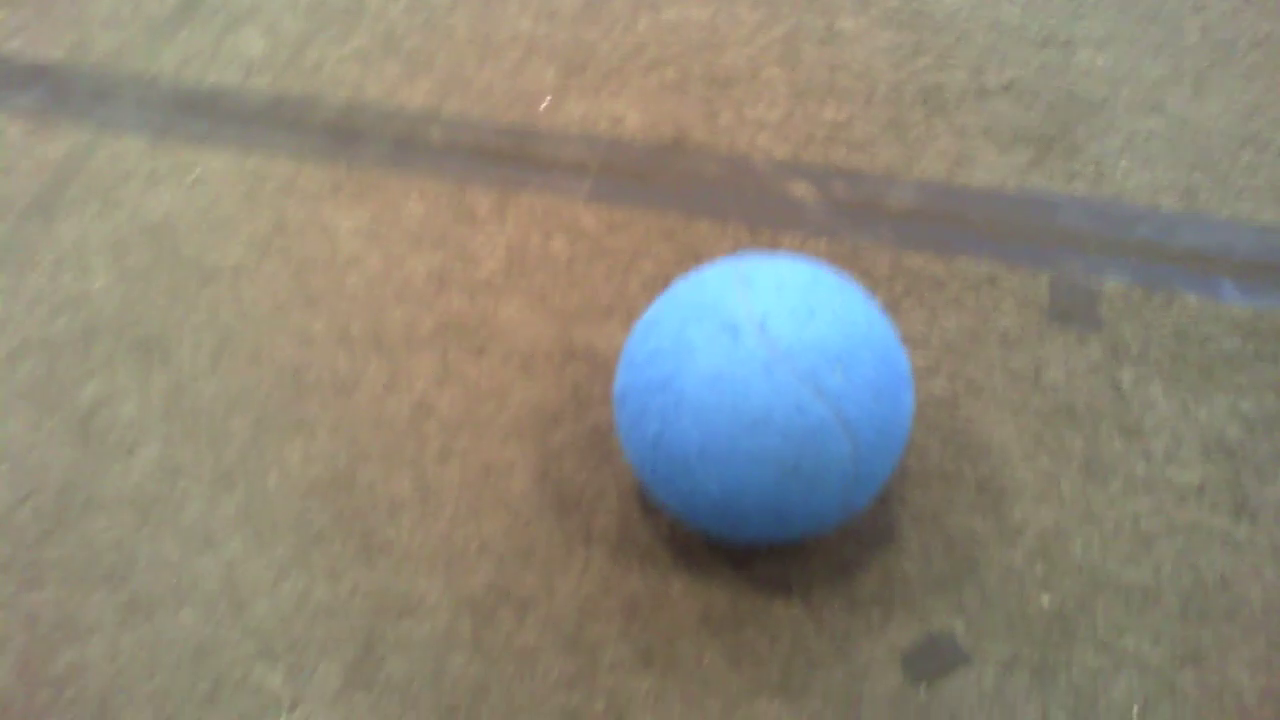blue_cargo: (594, 241, 926, 551)
